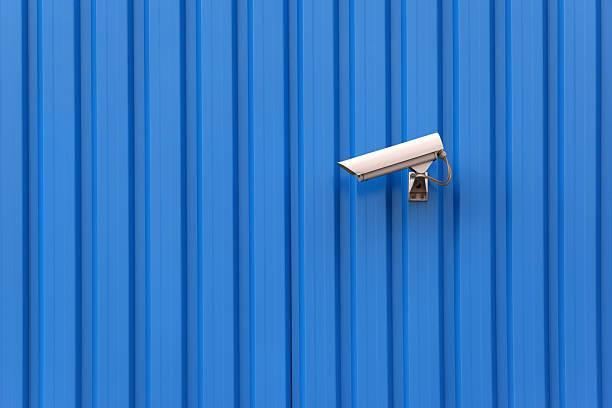camera: (319, 126, 466, 213)
